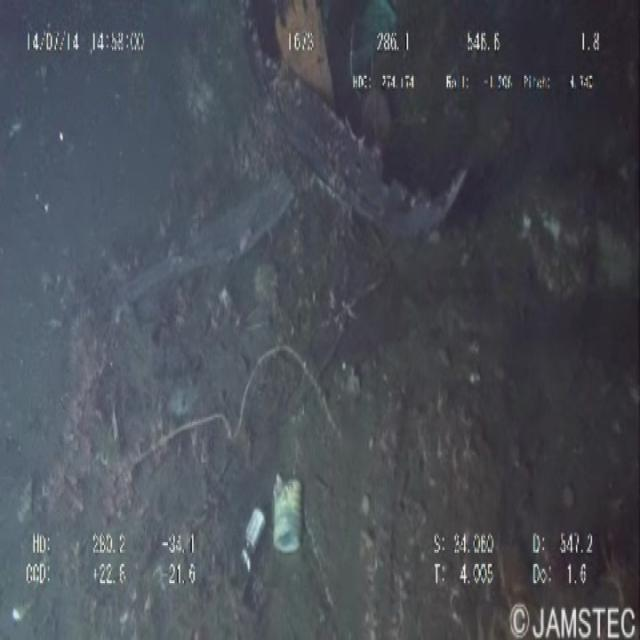Glass: (228, 502, 271, 592)
Litter: (154, 4, 493, 282)
Natual-Debris: (91, 330, 355, 488)
Plastic: (274, 451, 310, 581)
